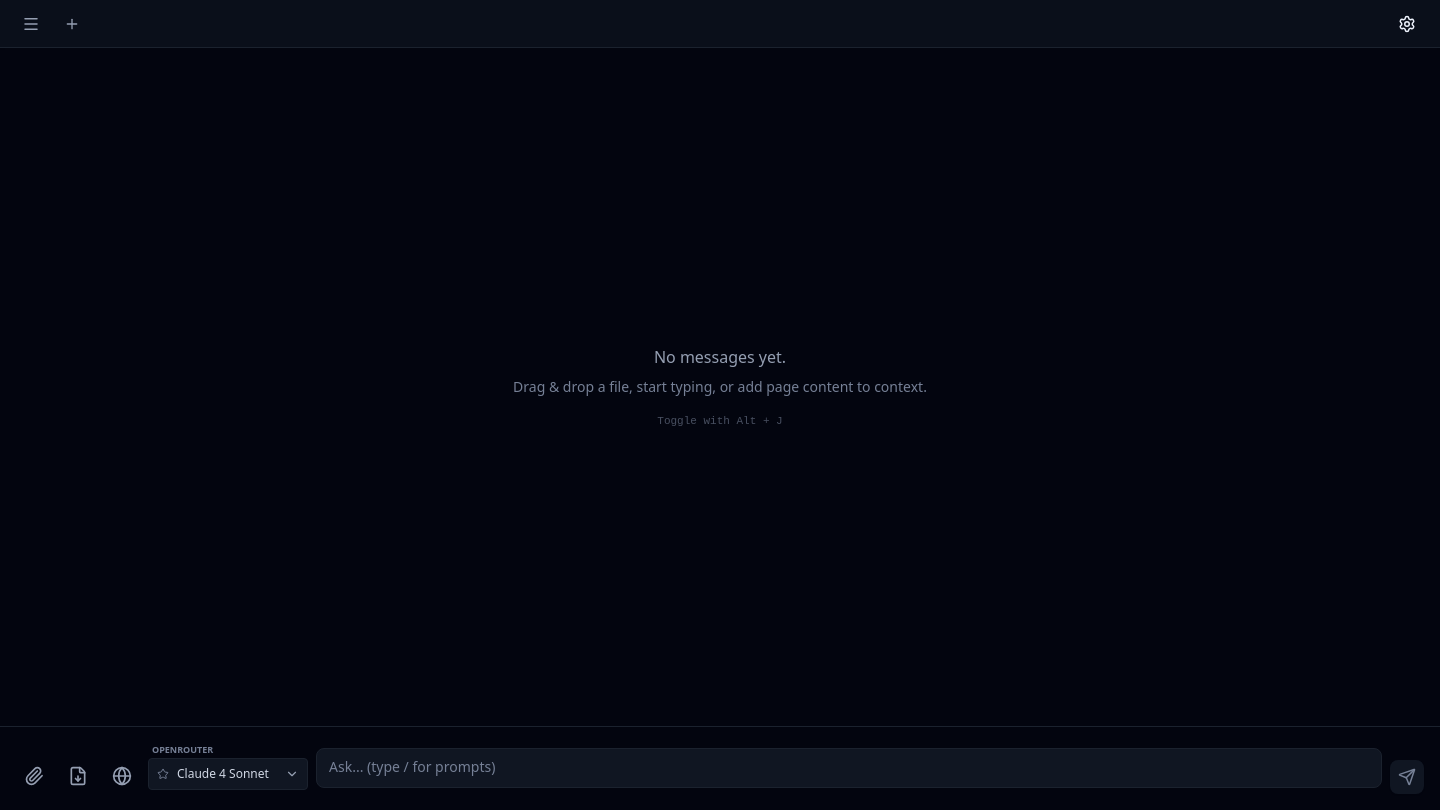
Test case: Verified Features Integration › Verified Feature: Page uploading to model context works
The image size is (1440, 810).
Click the button titled "Import current page text". click: (78, 776)
box: 60,758 -> 96,794
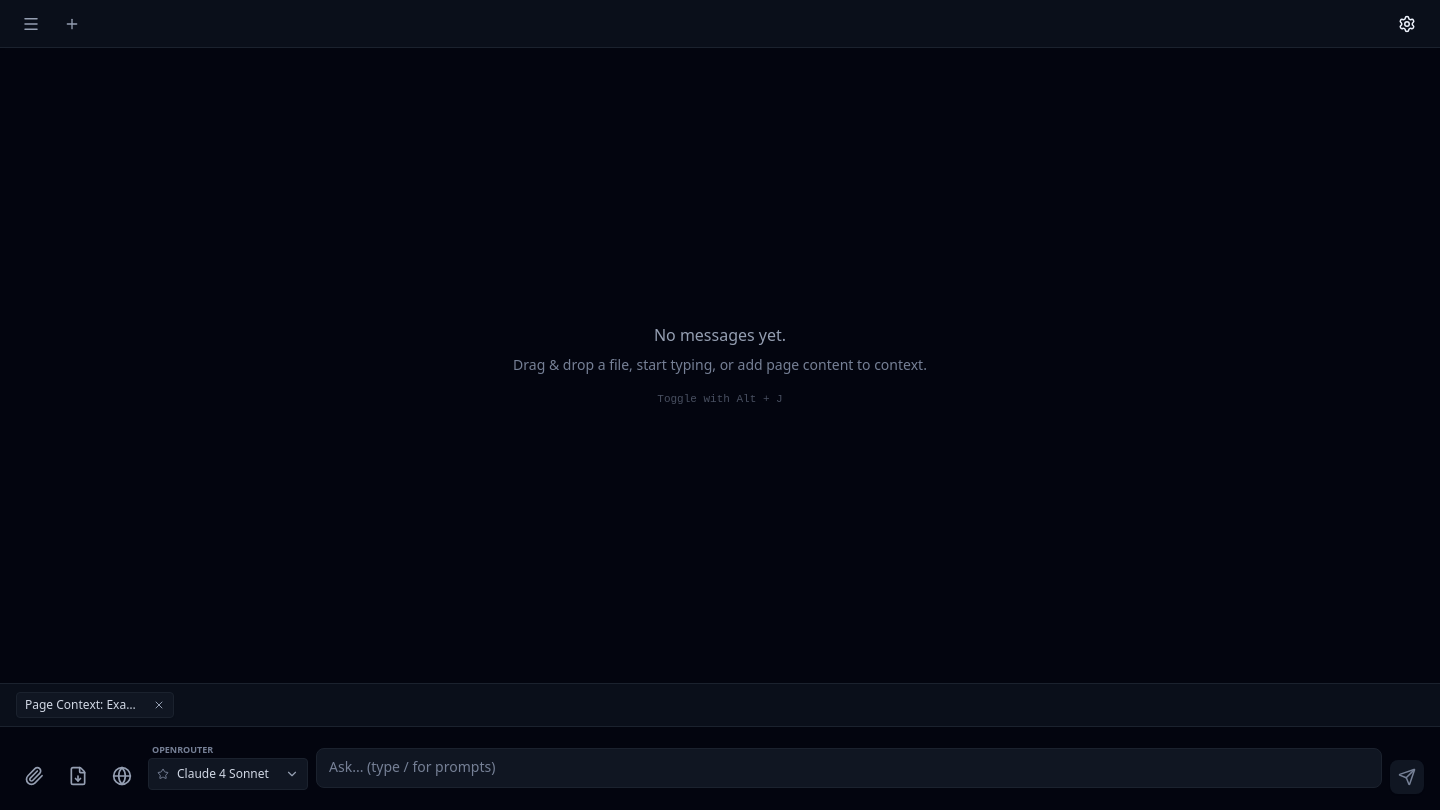
expect the text "Page Context: Example" is shown: met, box 25,696 -> 145,712
